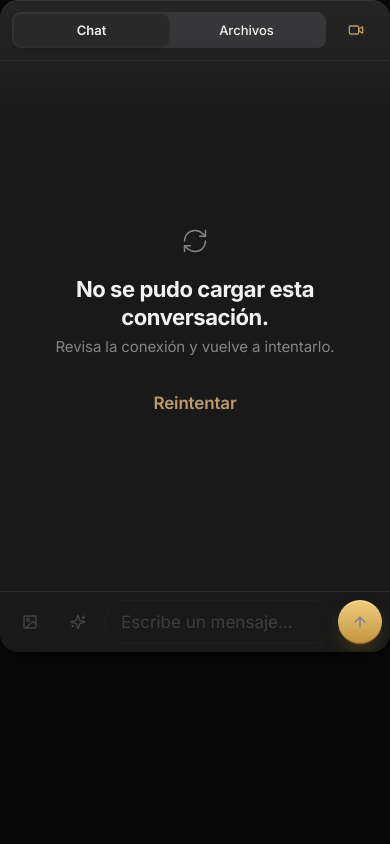
Scenario: trainer chat reliability › shows a failed load with retry and recovers the conversation
The image size is (390, 844).
Expected: the message shows "No se pudo cargar esta conversación.", 76,276 -> 314,330
Expected: the field labelled "mensaje" is disabled, 104,600 -> 334,644
What coordinates should you click on to do the following:
click the button "Reintentar"
I would click on:
 (195, 403)
Its box is 138,381 -> 252,425.
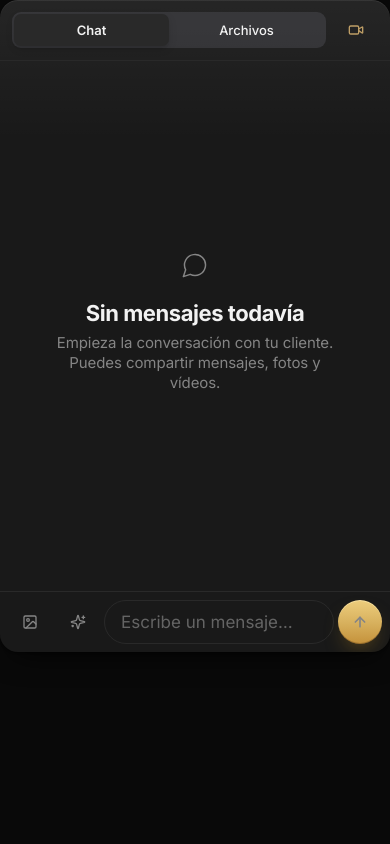
Now the text "Empieza la conversación con tu cliente" is shown, box 57,333 -> 333,392
Now the field labelled "mensaje" is enabled, box 104,600 -> 334,644
